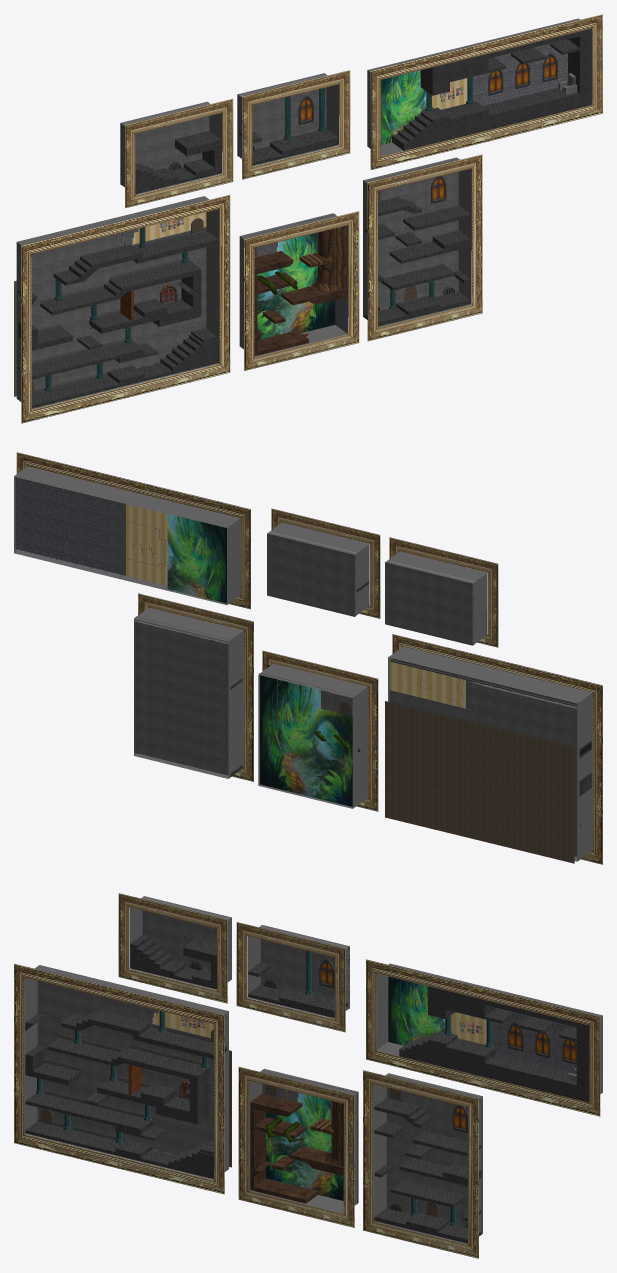
The model's file is nieuwe levels.FBX.
The picture shows the model from 3 angles, top to bottom: view 1: azimuth 30°, elevation 25°; view 2: azimuth 150°, elevation 25°; view 3: azimuth 330°, elevation 25°; orthographic projection.
Visible parts, largest first — view 1: Extra_Level_6, polySurface516, polySurface664, Extra_Level_4, Extra_Level_2, Extra_Level_1, Extra_Level_3, polySurface484, Extra_Level_5, polySurface608, polySurface509, polySurface510 (+17 smaller); view 2: Plane006, polySurface608, Extra_Level_4, Extra_Level_6, polySurface667, Extra_Level_3, Extra_Level_2, polySurface516, polySurface509, polySurface675, Extra_Level_1, polySurface612 (+5 smaller); view 3: Extra_Level_6, polySurface516, Extra_Level_4, Extra_Level_1, Extra_Level_2, polySurface664, Extra_Level_3, polySurface484, Extra_Level_5, polySurface608, polySurface509, polySurface510 (+17 smaller).
Boxes of the visible parts, left/top/right/bottom form: Extra_Level_6: left=370, top=14, right=602, bottom=169; polySurface516: left=31, top=232, right=206, bottom=388; polySurface664: left=392, top=28, right=592, bottom=150; Extra_Level_4: left=244, top=211, right=359, bottom=370; Extra_Level_2: left=120, top=98, right=233, bottom=208; Extra_Level_1: left=16, top=195, right=230, bottom=423; Extra_Level_3: left=237, top=70, right=350, bottom=179; polySurface484: left=18, top=260, right=201, bottom=350; Extra_Level_5: left=367, top=154, right=482, bottom=341; polySurface608: left=363, top=171, right=458, bottom=313; polySurface509: left=16, top=196, right=219, bottom=409; polySurface510: left=31, top=334, right=218, bottom=408; Plane006: left=385, top=701, right=574, bottom=863; polySurface608: left=134, top=620, right=229, bottom=775; Extra_Level_4: left=259, top=650, right=378, bottom=811; Extra_Level_6: left=16, top=452, right=250, bottom=609; polySurface667: left=14, top=476, right=167, bottom=587; Extra_Level_3: left=267, top=508, right=380, bottom=618; Extra_Level_2: left=385, top=537, right=498, bottom=647; polySurface516: left=389, top=680, right=577, bottom=858; polySurface509: left=388, top=646, right=592, bottom=861; polySurface675: left=14, top=466, right=240, bottom=605; Extra_Level_1: left=392, top=634, right=602, bottom=864; polySurface612: left=134, top=607, right=243, bottom=778; Extra_Level_6: left=366, top=959, right=600, bottom=1116; polySurface516: left=37, top=981, right=213, bottom=1154; Extra_Level_4: left=238, top=1067, right=357, bottom=1227; Extra_Level_1: left=14, top=963, right=224, bottom=1194; Extra_Level_2: left=118, top=893, right=231, bottom=1003; polySurface664: left=399, top=986, right=589, bottom=1102; Extra_Level_3: left=236, top=922, right=349, bottom=1032; polySurface484: left=25, top=1038, right=209, bottom=1124; Extra_Level_5: left=363, top=1070, right=478, bottom=1258; polySurface608: left=386, top=1087, right=482, bottom=1231; polySurface509: left=24, top=965, right=228, bottom=1180; polySurface510: left=25, top=1121, right=213, bottom=1179.
Size of the model in its own units: 193 by 87.29 by 10.91.
